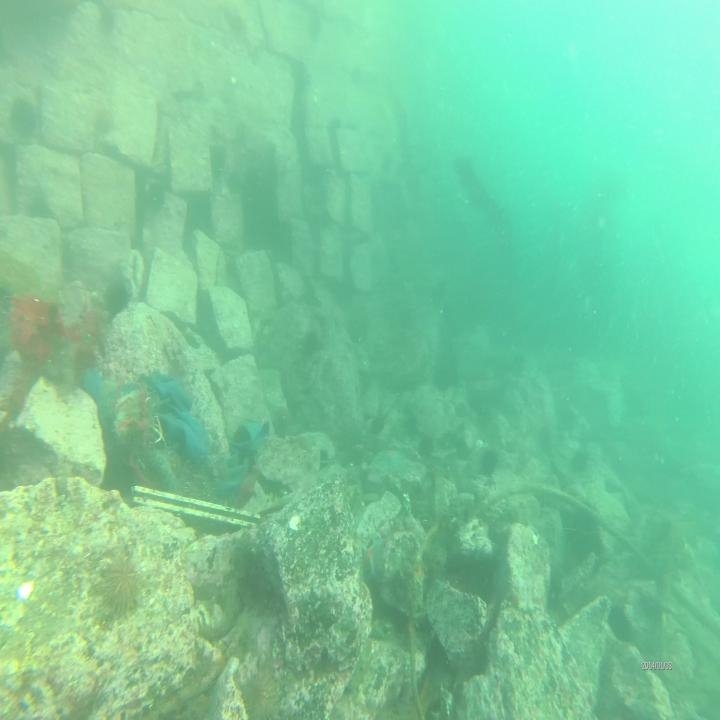echinus: (102, 547, 147, 611), (244, 661, 279, 720)
starfish: (359, 534, 381, 579), (379, 445, 410, 470)
